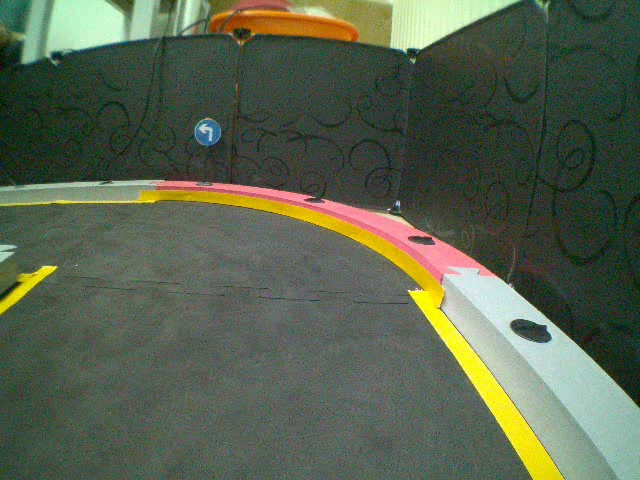turn: (194, 117, 221, 146)
